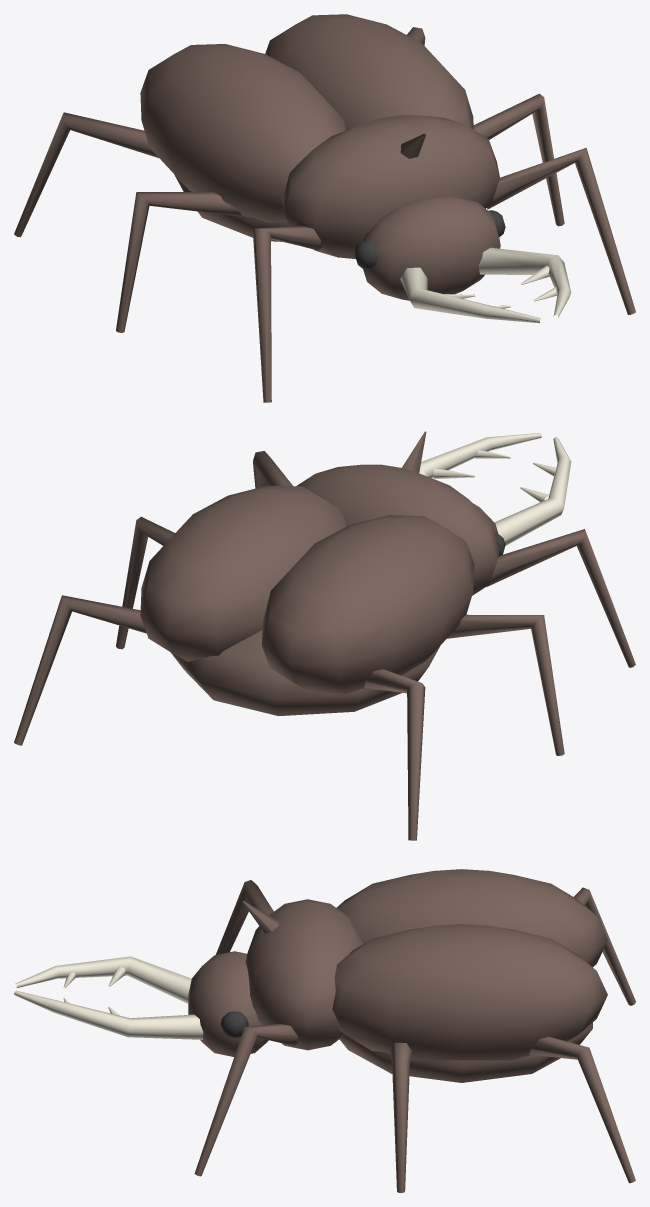
The model's file is beetle.glb.
3 views of the same model, one above another, from view 1: azimuth 30°, elevation 25°; view 2: azimuth 150°, elevation 25°; view 3: azimuth 270°, elevation 25° (orthographic). The views are drawn at different scales.
Bounding box in the file's own units: 1.18 × 0.525 × 1.53.
